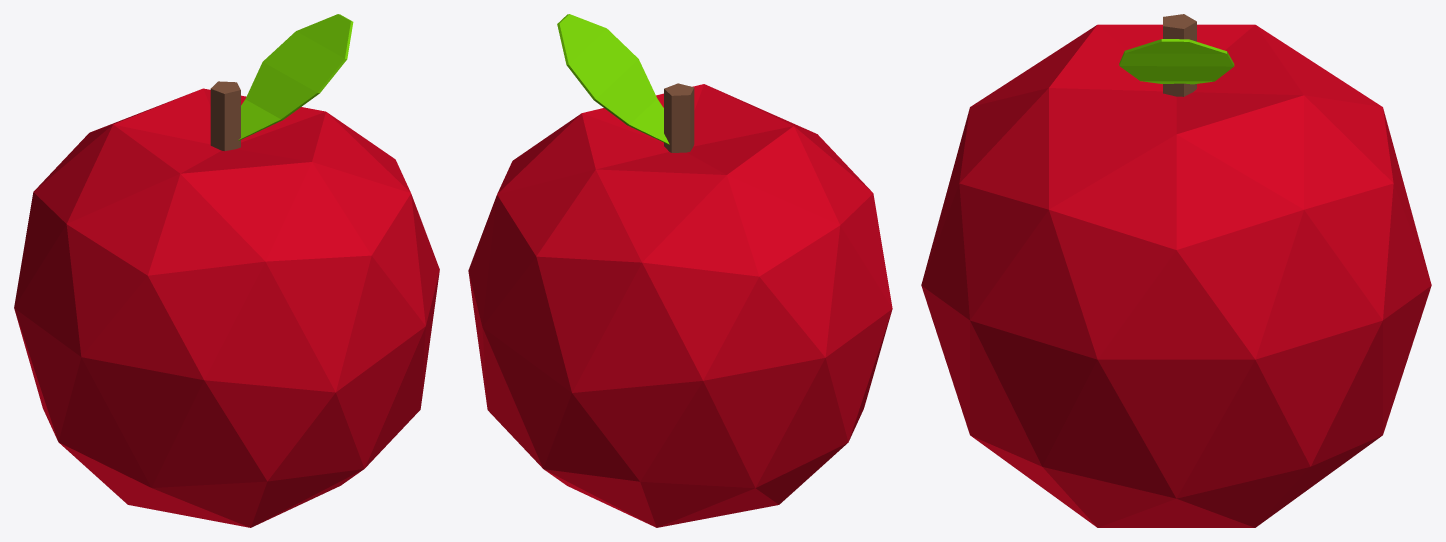
Rendered from apple.fbx.
The picture shows the model from 3 angles, left to right: view 1: azimuth 30°, elevation 25°; view 2: azimuth 150°, elevation 25°; view 3: azimuth 270°, elevation 25°; orthographic projection. The views are drawn at different scales.
Visible parts, largest first — view 1: apple, leaf, stalk; view 2: apple, leaf, stalk; view 3: apple, leaf, stalk.
Part boxes in pixels (left/top/right/bottom): apple: left=14, top=88, right=439, bottom=527; leaf: left=238, top=14, right=353, bottom=140; stalk: left=210, top=81, right=240, bottom=150; apple: left=468, top=84, right=892, bottom=527; leaf: left=557, top=14, right=669, bottom=144; stalk: left=664, top=83, right=694, bottom=152; apple: left=921, top=24, right=1431, bottom=527; leaf: left=1119, top=39, right=1234, bottom=84; stalk: left=1163, top=14, right=1196, bottom=96.
Size of the model in its own units: 1.9 by 2.3 by 2.
